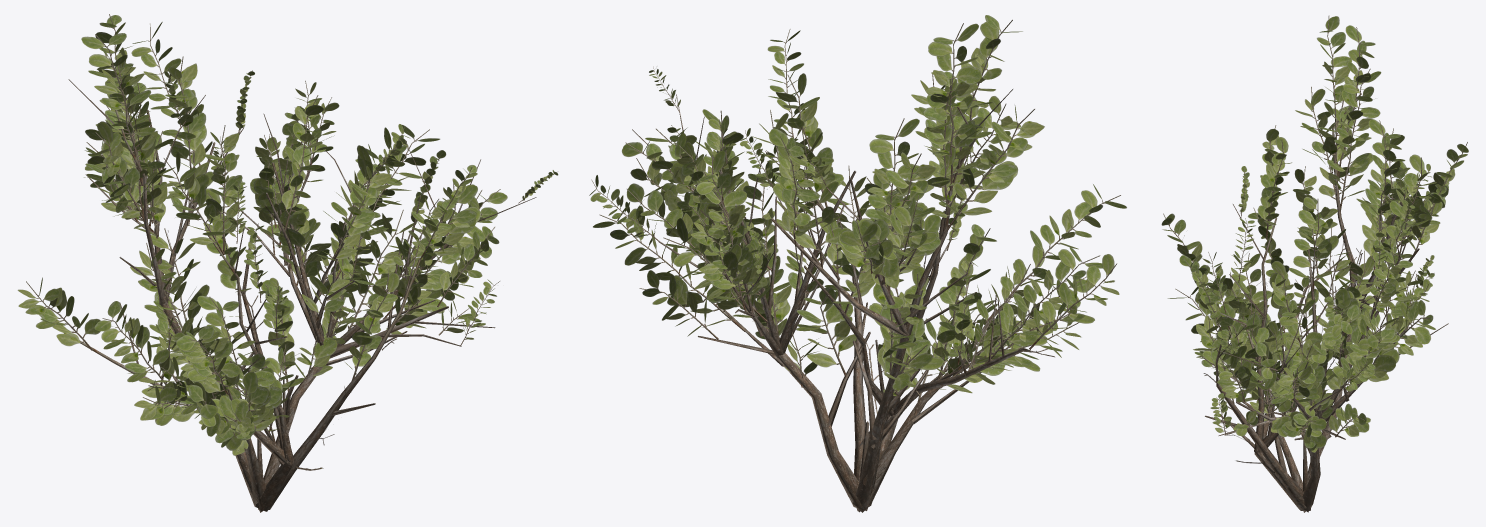
File: searsia_lucida_e_LOD1.glb
3 renders of one model, left to right at view 1: azimuth 30°, elevation 25°; view 2: azimuth 150°, elevation 25°; view 3: azimuth 270°, elevation 25°, orthographic. The views are drawn at different scales.
Parts seen in each view (by area): view 1: searsia_lucida_e_LOD1.001; view 2: searsia_lucida_e_LOD1.001; view 3: searsia_lucida_e_LOD1.001.
Boxes of the visible parts, left/top/right/bottom form: searsia_lucida_e_LOD1.001: left=17, top=14, right=558, bottom=512; searsia_lucida_e_LOD1.001: left=589, top=15, right=1126, bottom=512; searsia_lucida_e_LOD1.001: left=1161, top=15, right=1468, bottom=512.
Size of the model in its own units: 1.04 by 1.02 by 0.6745.
3 materials, 3 textured.
